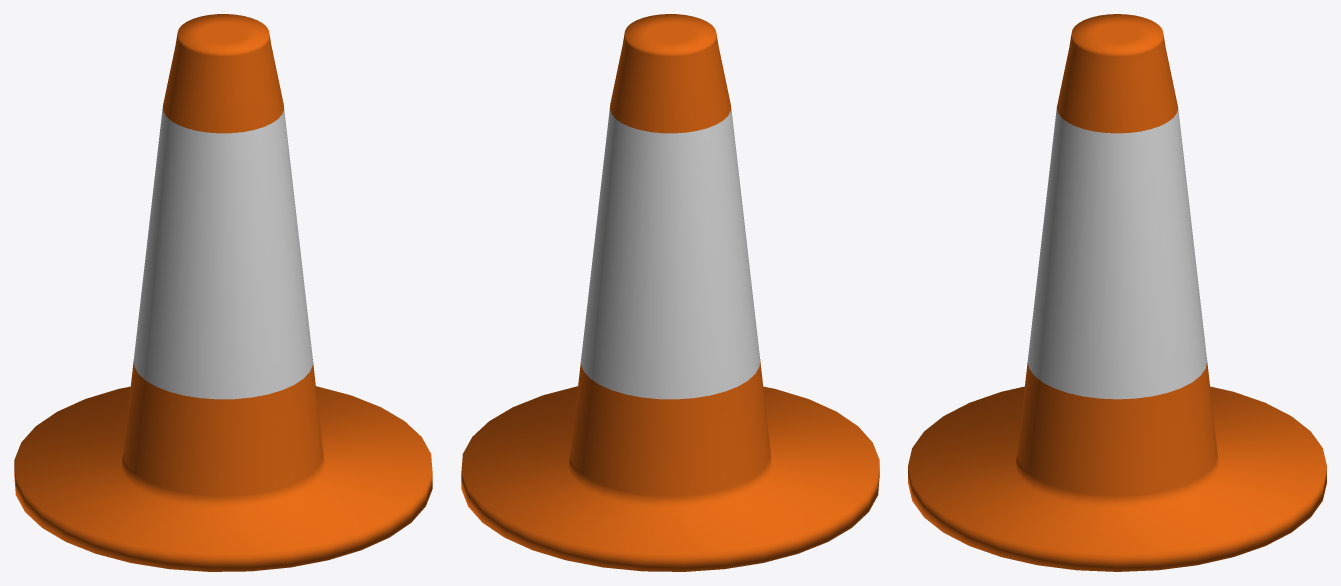
3 views of the same model, side by side, from view 1: azimuth 30°, elevation 25°; view 2: azimuth 150°, elevation 25°; view 3: azimuth 270°, elevation 25° (orthographic).
Parts seen in each view (by area): view 1: Cylinder.000; view 2: Cylinder.000; view 3: Cylinder.000.
Part boxes in pixels (x1,y1,x2,y2): Cylinder.000: (14,14,432,571); Cylinder.000: (461,14,879,571); Cylinder.000: (908,14,1326,571).
Bounding box in the file's own units: 2.49 × 2.96 × 2.49.
